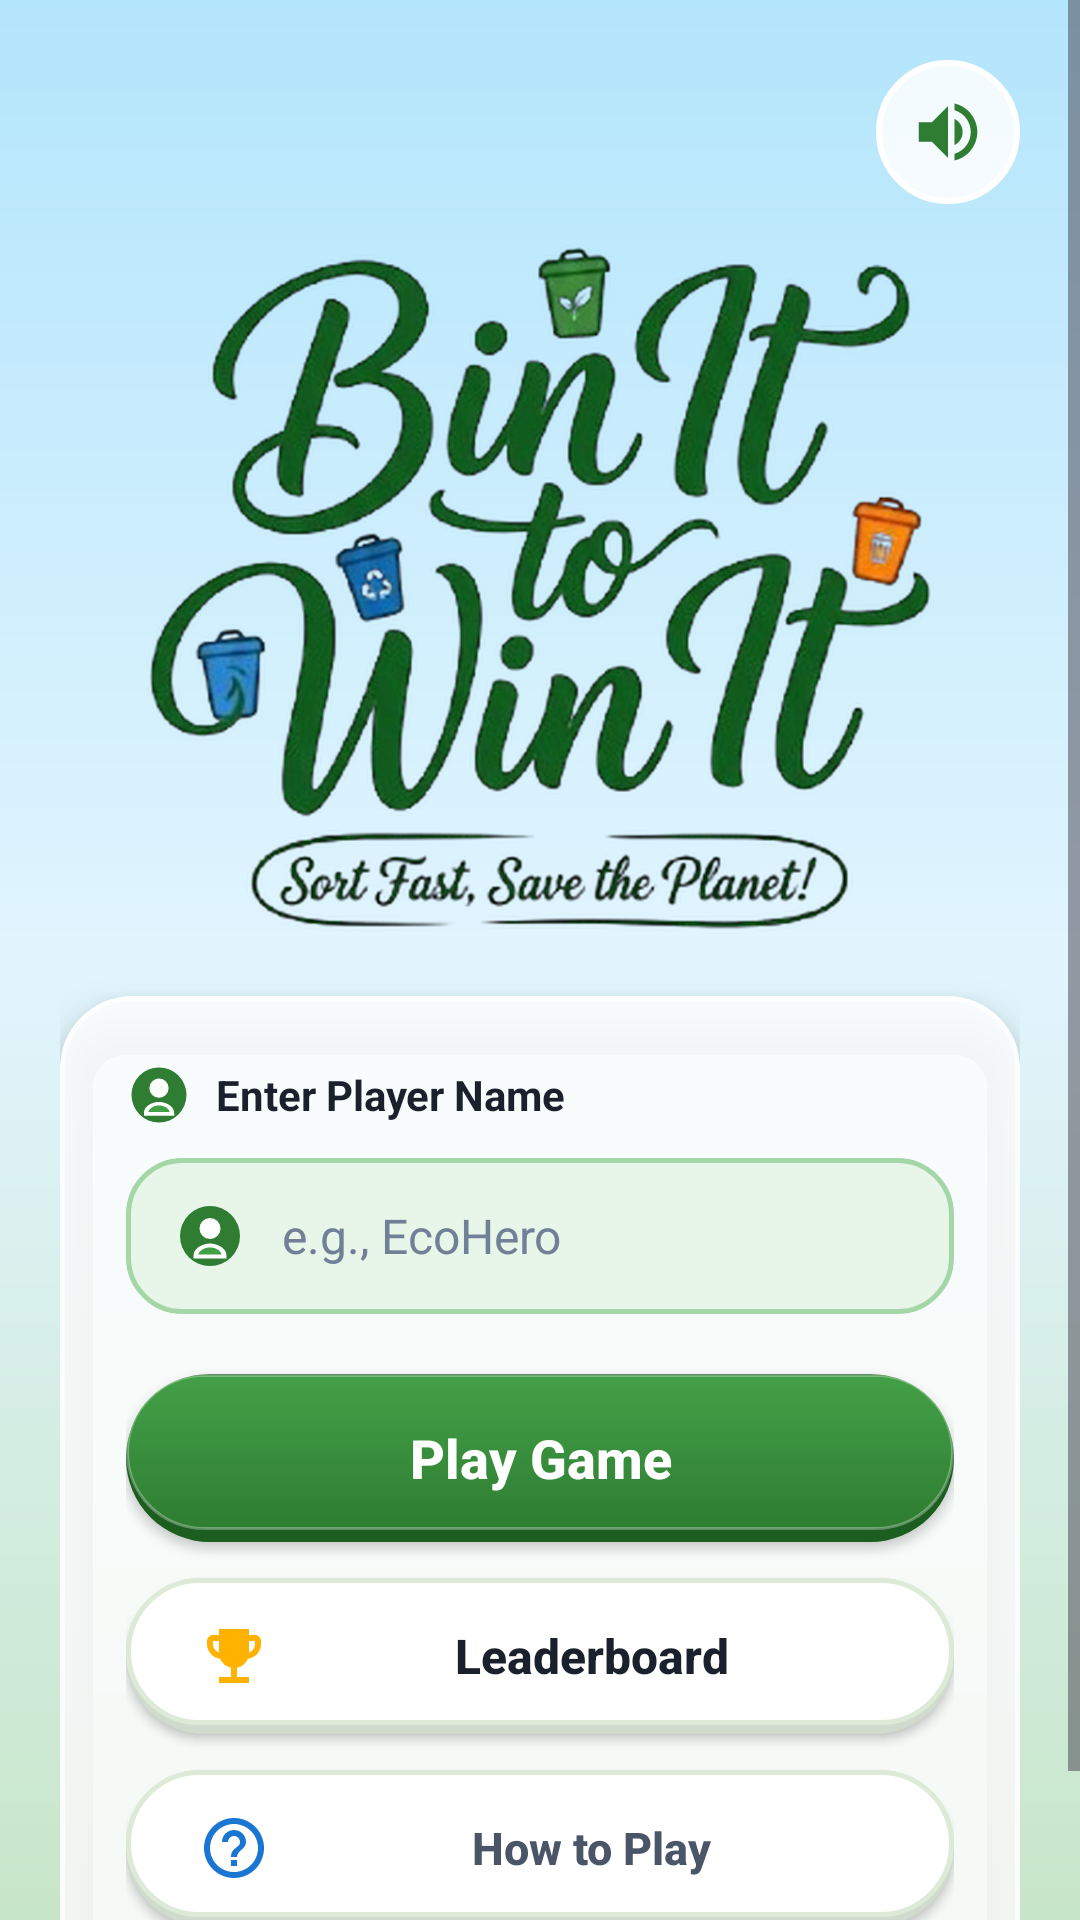

Screen size 1080 × 1920. Icon name, then its center in pixels as point (x, y):
sound on: point (948, 132)
